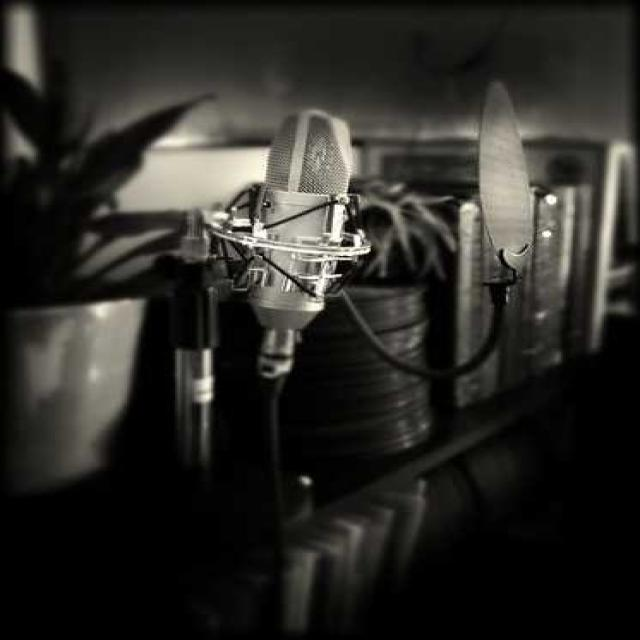microphone: (240, 111, 357, 357)
